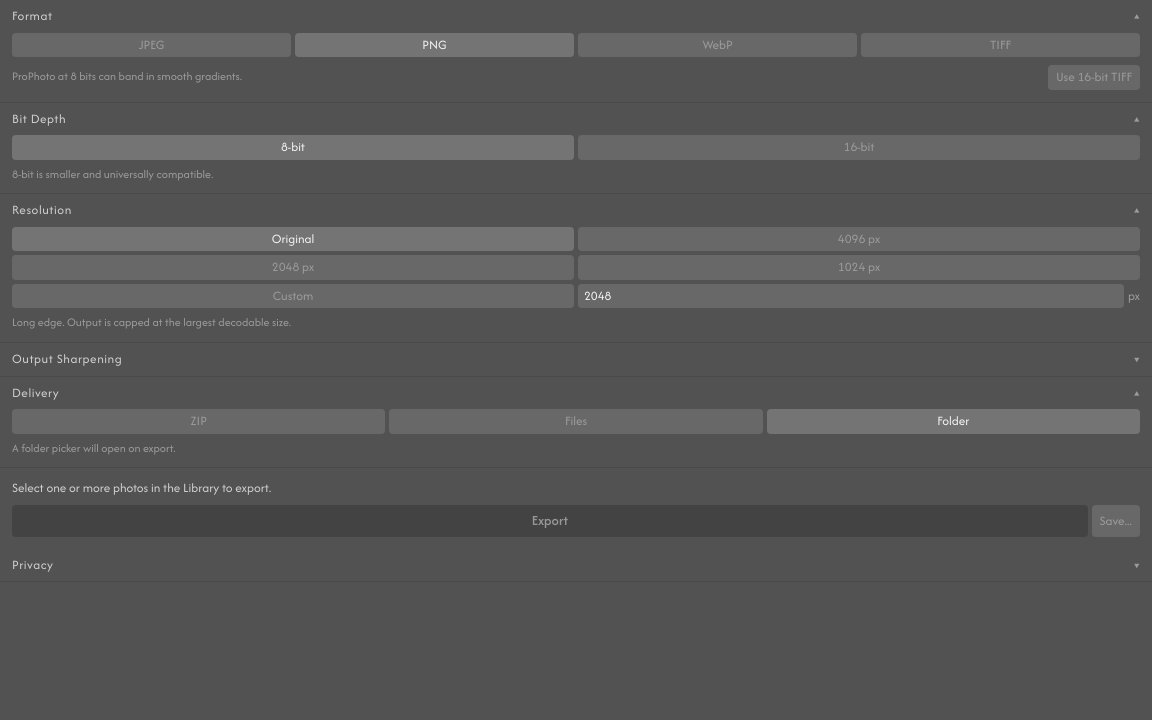
Test: the ProPhoto warning › switches the export to a 16-bit TIFF from its button
Click the button "Use 16-bit TIFF": (1094, 77) [1048, 65, 1140, 90]
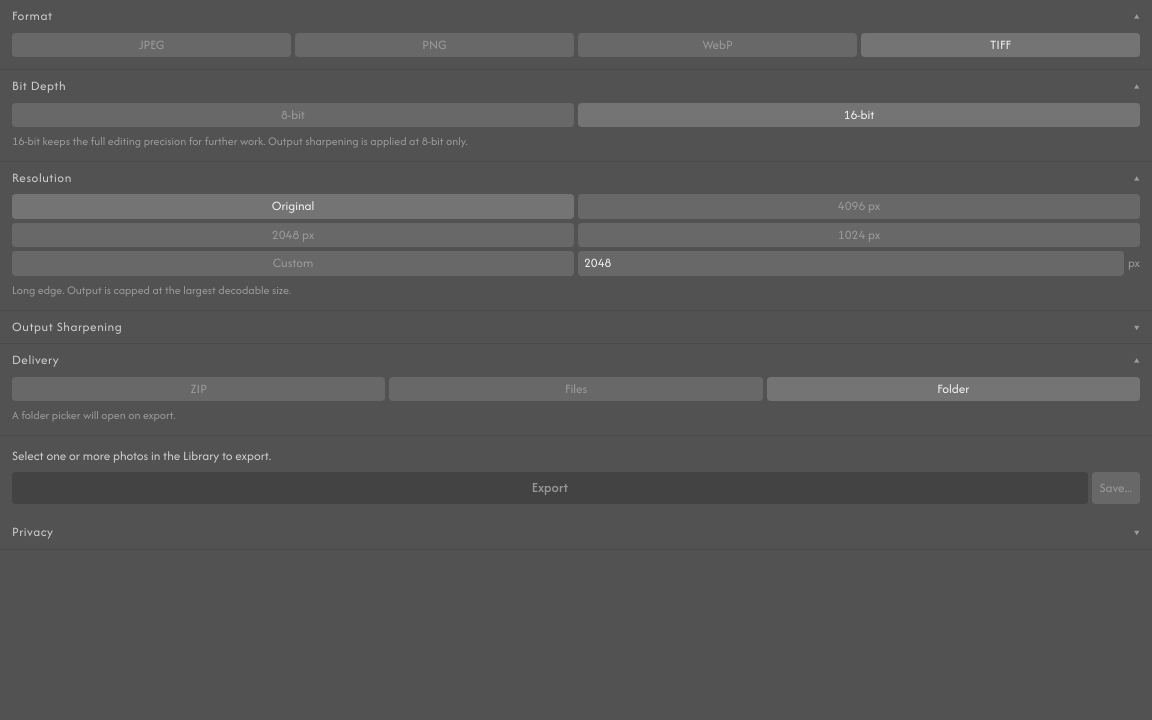
Expected: the text "ProPhoto at 8 bits can band in smooth gradients." is gone
